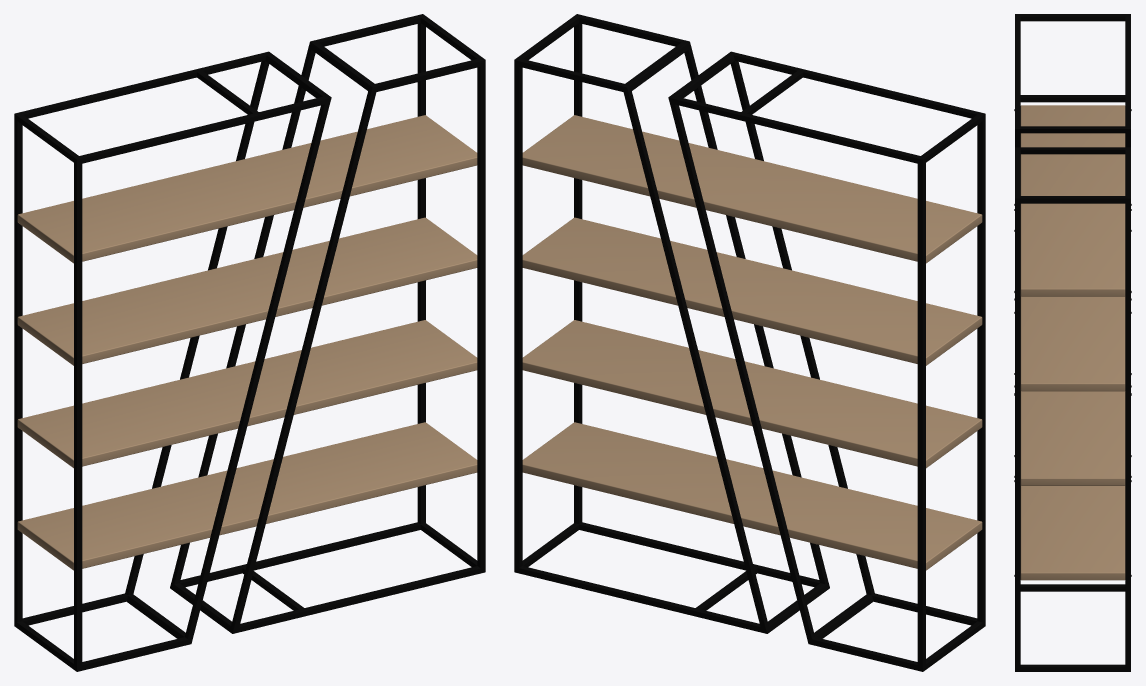
File: Rack_Horizon__corona.fbx
The picture shows the model from 3 angles, left to right: view 1: azimuth 30°, elevation 25°; view 2: azimuth 150°, elevation 25°; view 3: azimuth 270°, elevation 25°; orthographic projection. The views are drawn at different scales.
Parts seen in each view (by area): view 1: Rack_Horizon_002; view 2: Rack_Horizon_002; view 3: Rack_Horizon_002.
Boxes of the visible parts, left/top/right/bottom form: Rack_Horizon_002: left=14, top=14, right=485, bottom=671; Rack_Horizon_002: left=514, top=14, right=985, bottom=671; Rack_Horizon_002: left=1014, top=14, right=1131, bottom=671.
Size of the model in its own units: 150 by 180 by 40.47.
